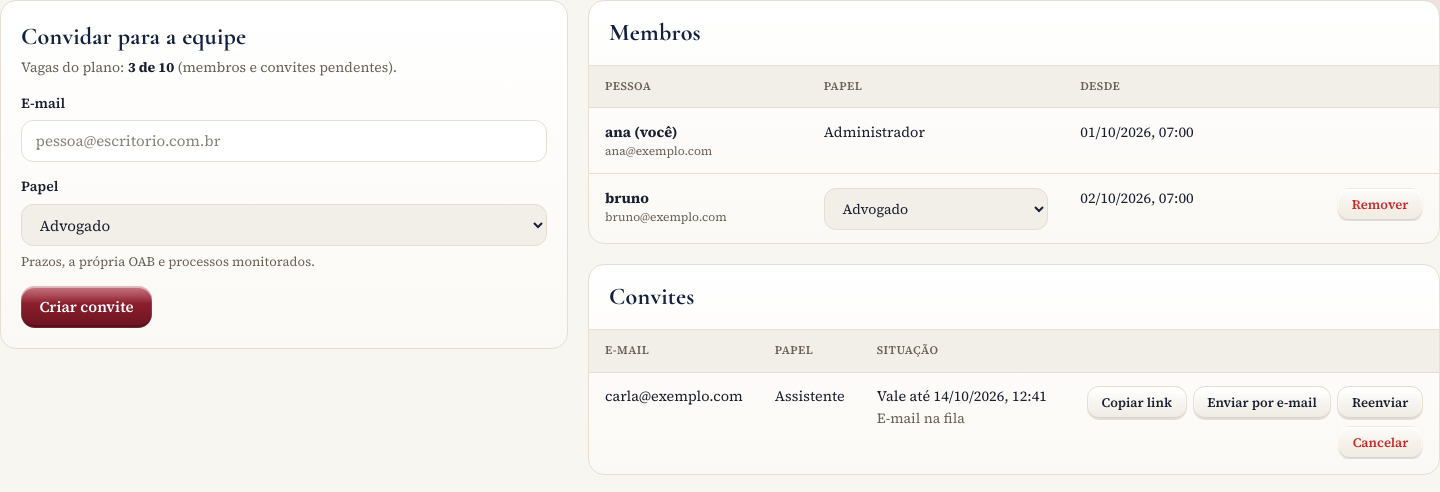
Test: tela Equipe › mostra a recusa do banco acima do limite de usuários
Type "extra@exemplo.com" into the field labelled "E-mail" at x=284, y=141, box [21, 120, 547, 162]
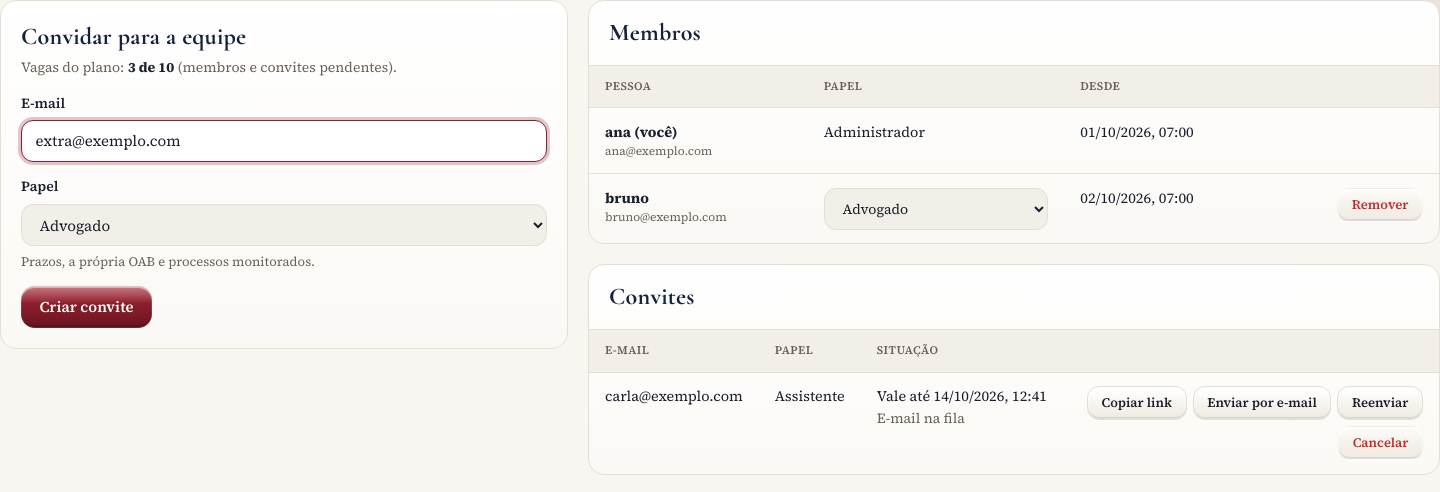
Click the button "Criar convite" at x=87, y=307, box [21, 286, 152, 328]
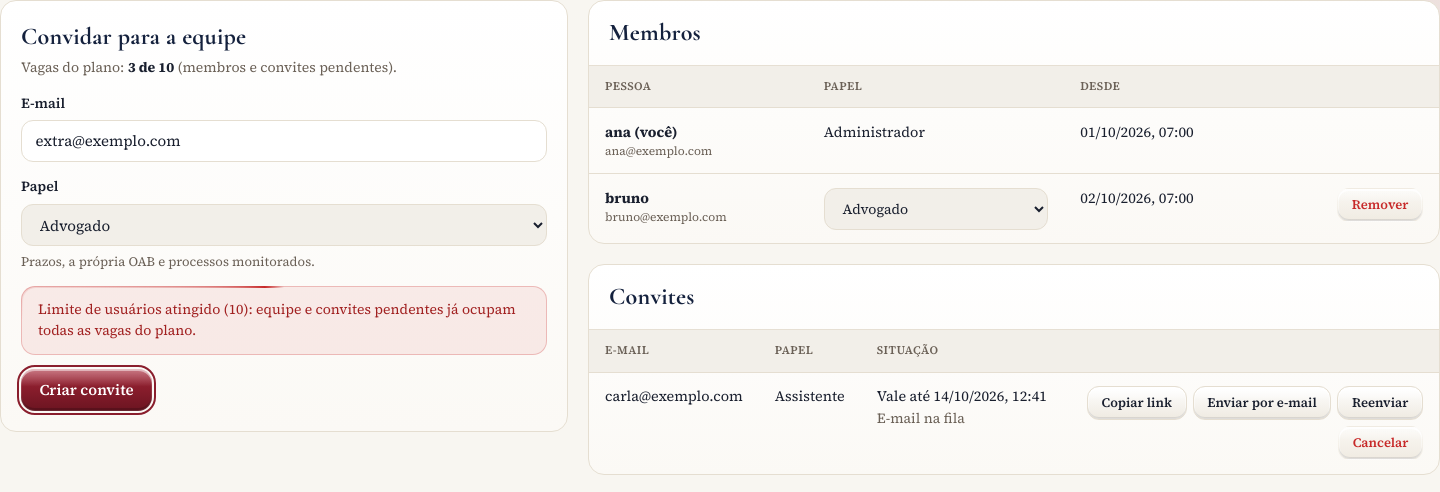
Expected: the message shows "Limite de usuários atingido (10)", [38, 299, 516, 340]
